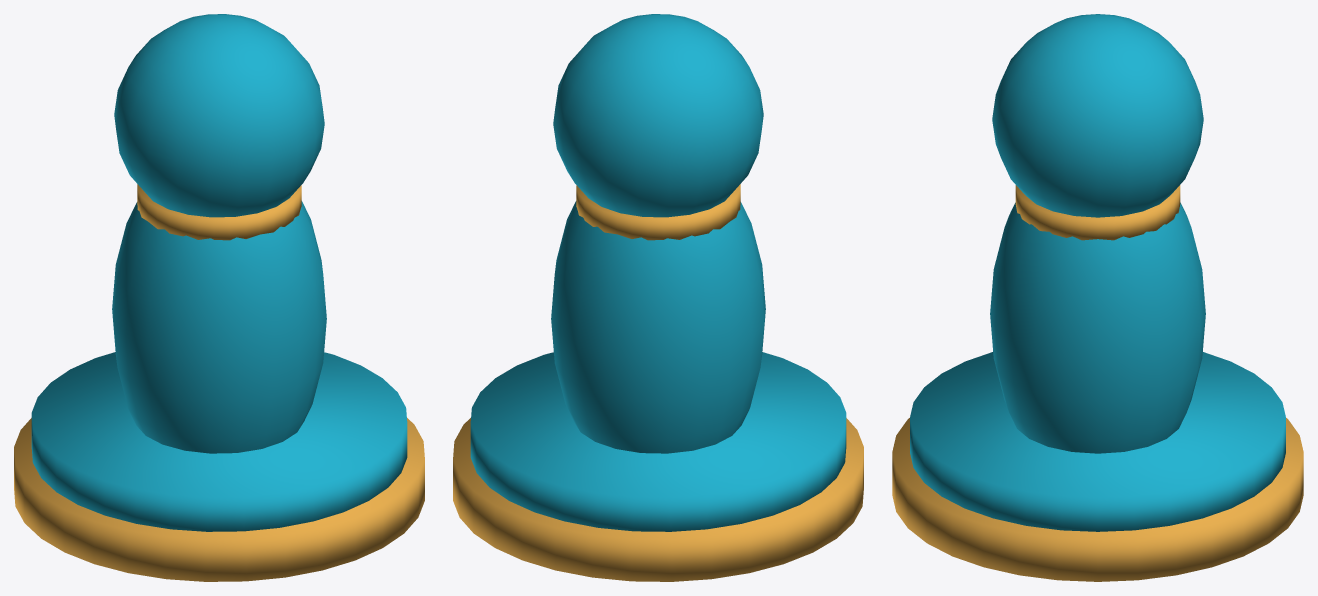
File: pawn_child.glb
The picture shows the model from 3 angles, left to right: view 1: azimuth 30°, elevation 25°; view 2: azimuth 150°, elevation 25°; view 3: azimuth 270°, elevation 25°; orthographic projection.
Parts seen in each view (by area): view 1: Curved body, Enamel foot, Rounded head, Brass foot, Brass collar; view 2: Curved body, Enamel foot, Rounded head, Brass foot, Brass collar; view 3: Curved body, Enamel foot, Rounded head, Brass foot, Brass collar.
Part boxes in pixels (box(x1,y1,x2,y2)): Curved body: box(112, 201, 326, 453); Enamel foot: box(31, 352, 407, 531); Rounded head: box(114, 14, 324, 217); Brass foot: box(14, 418, 424, 581); Brass collar: box(137, 184, 301, 240); Curved body: box(551, 201, 765, 453); Enamel foot: box(470, 352, 846, 531); Rounded head: box(553, 14, 763, 217); Brass foot: box(453, 418, 863, 581); Brass collar: box(576, 184, 740, 240); Curved body: box(990, 202, 1205, 453); Enamel foot: box(910, 352, 1285, 531); Rounded head: box(992, 14, 1203, 217); Brass foot: box(892, 418, 1303, 581); Brass collar: box(1015, 185, 1180, 240).
Size of the model in its own units: 1.4 by 1.77 by 1.4.
